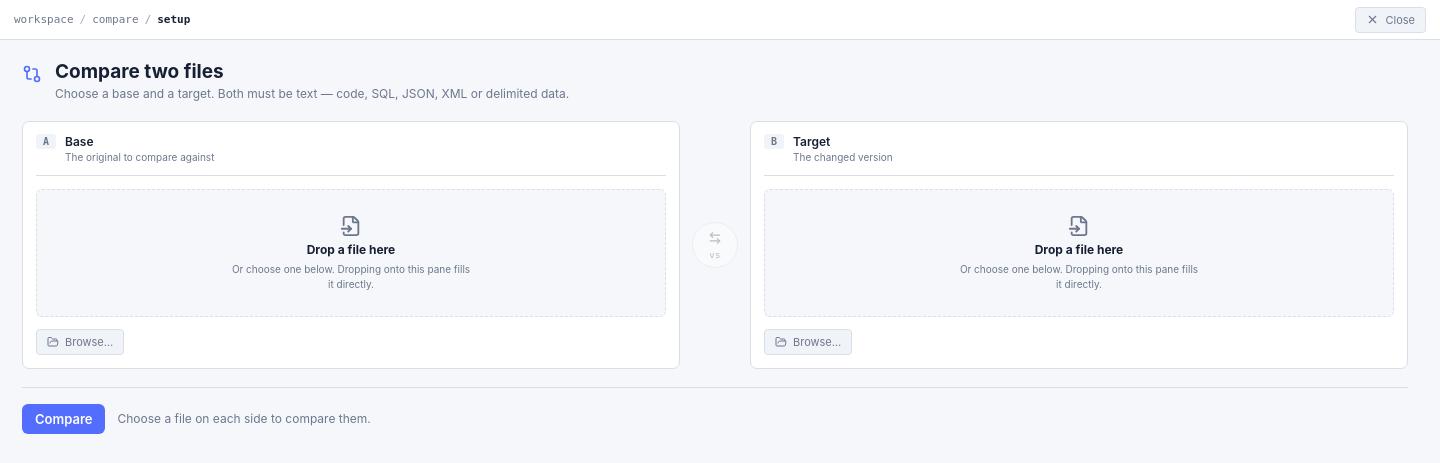
Test: diff setup › surfaces a detection failure instead of failing silently
This screenshot has width=1440, height=463.
Click the button "Browse…" below "The original to compare against" at x=80, y=342, box [36,329,124,355]
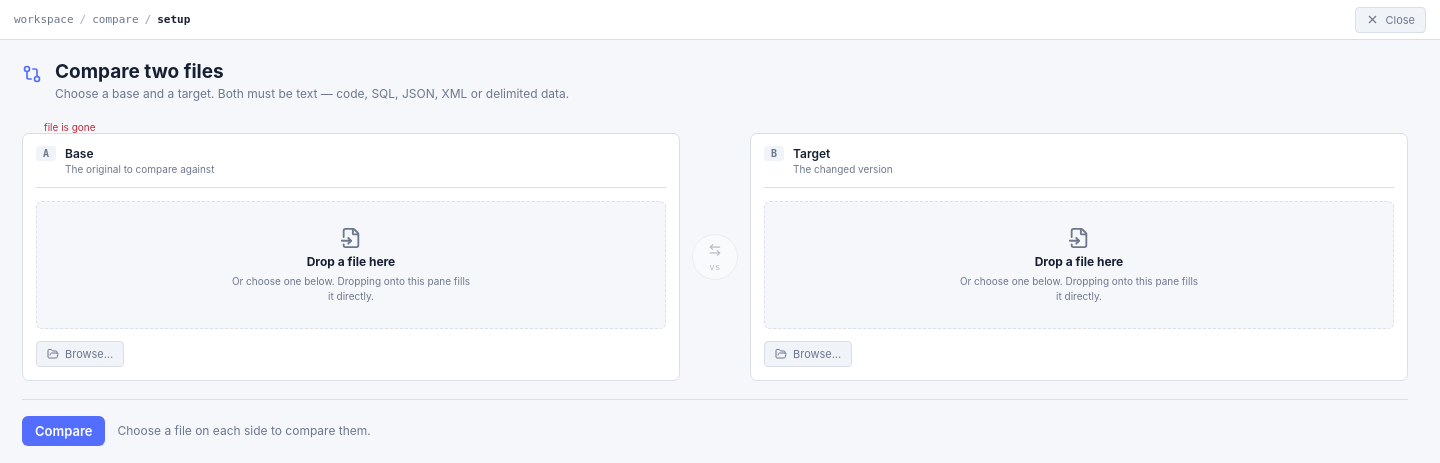
Now the text "file is gone" is shown, box [44,121,96,133]
